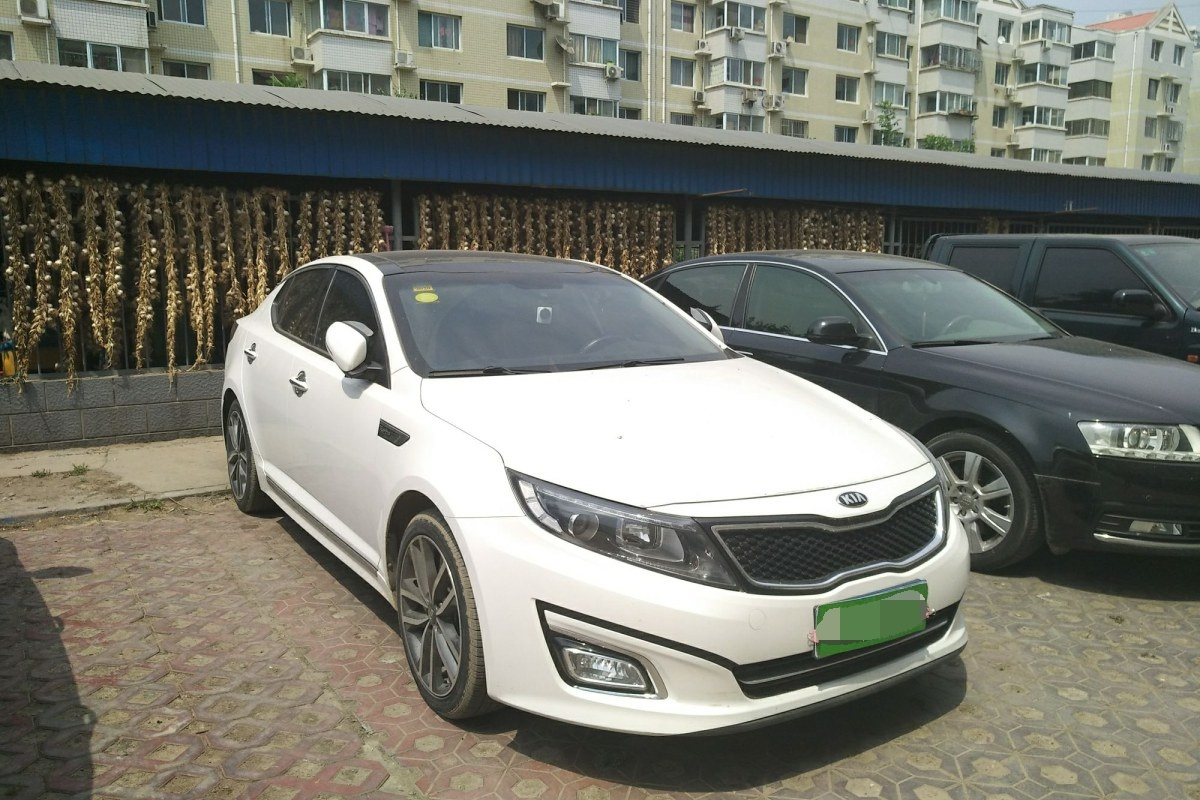family sedan: (225, 229, 986, 735)
